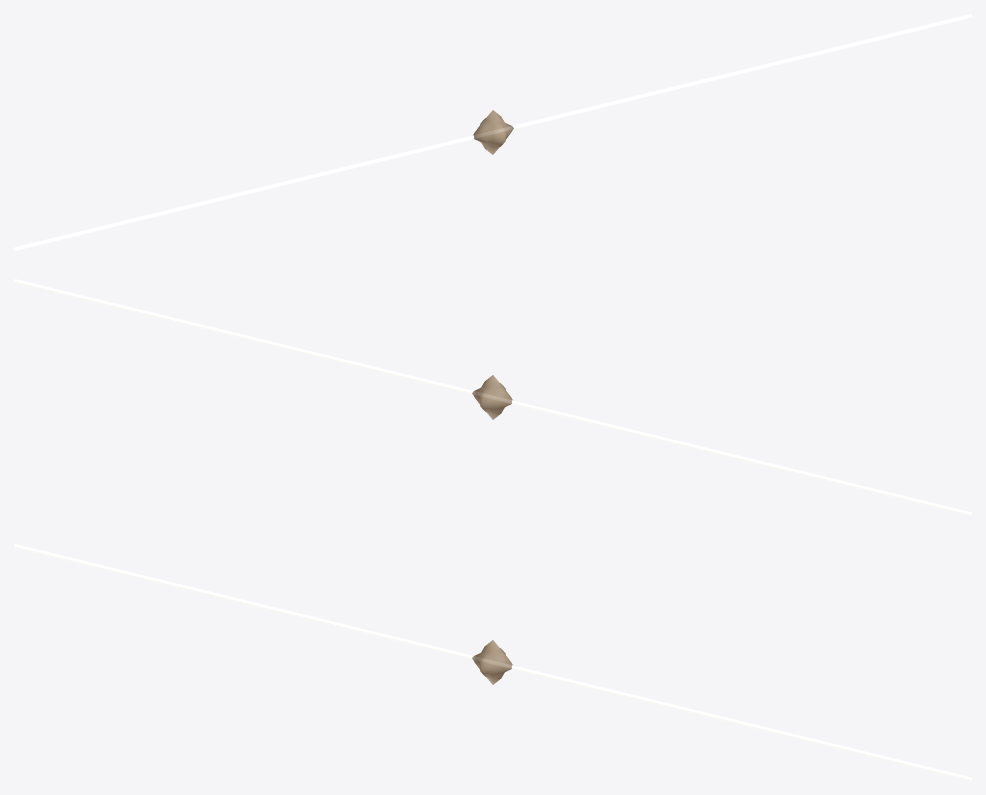
The model's file is fulcrum.glb.
The picture shows the model from 3 angles, top to bottom: view 1: azimuth 30°, elevation 25°; view 2: azimuth 150°, elevation 25°; view 3: azimuth 330°, elevation 25°; orthographic projection.
Visible parts, largest first — view 1: beam, pivot; view 2: beam, pivot; view 3: beam, pivot.
Part boxes in pixels (x1,y1,x2,y2): beam: (14, 14, 971, 250); pivot: (473, 110, 513, 154); beam: (14, 279, 971, 515); pivot: (472, 375, 512, 419); beam: (14, 544, 971, 780); pivot: (472, 640, 512, 684).
Bounding box in the file's own units: 3 × 0.136 × 0.136.
2 materials, 2 textured.
